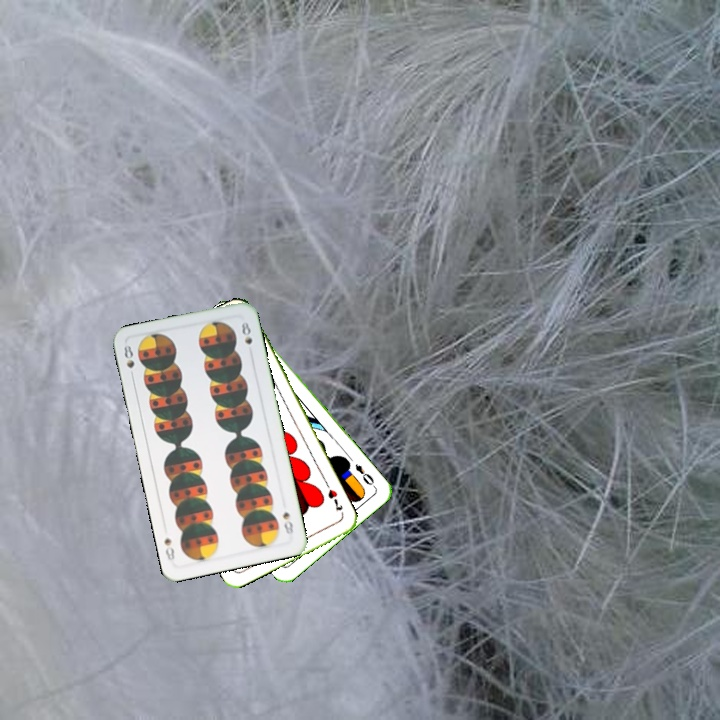EO: (351, 460, 378, 490)
H7: (324, 485, 345, 513)
S8: (118, 341, 137, 381), (279, 508, 296, 537)
